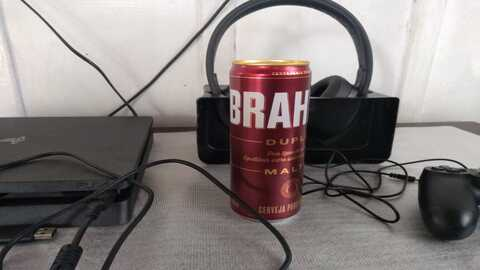duplo_malte: (228, 61, 306, 222)
